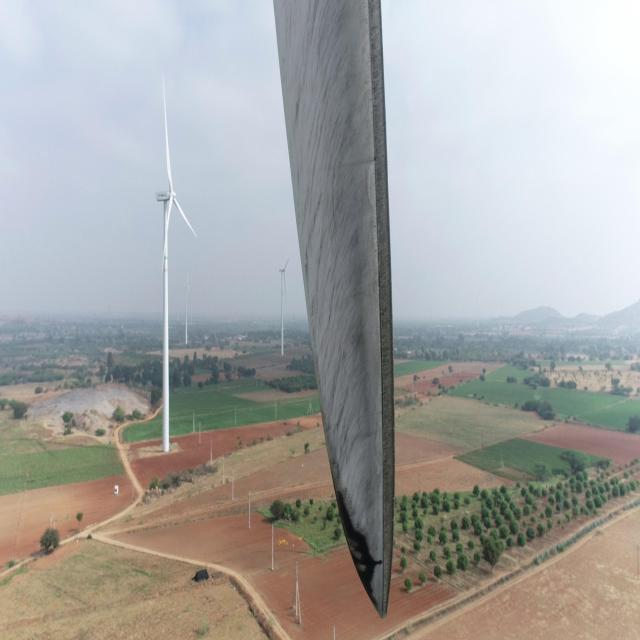Dirt: (271, 1, 394, 616)
Oil LEAKAGE: (335, 483, 385, 600)
Pin Hole: (375, 553, 387, 574)
